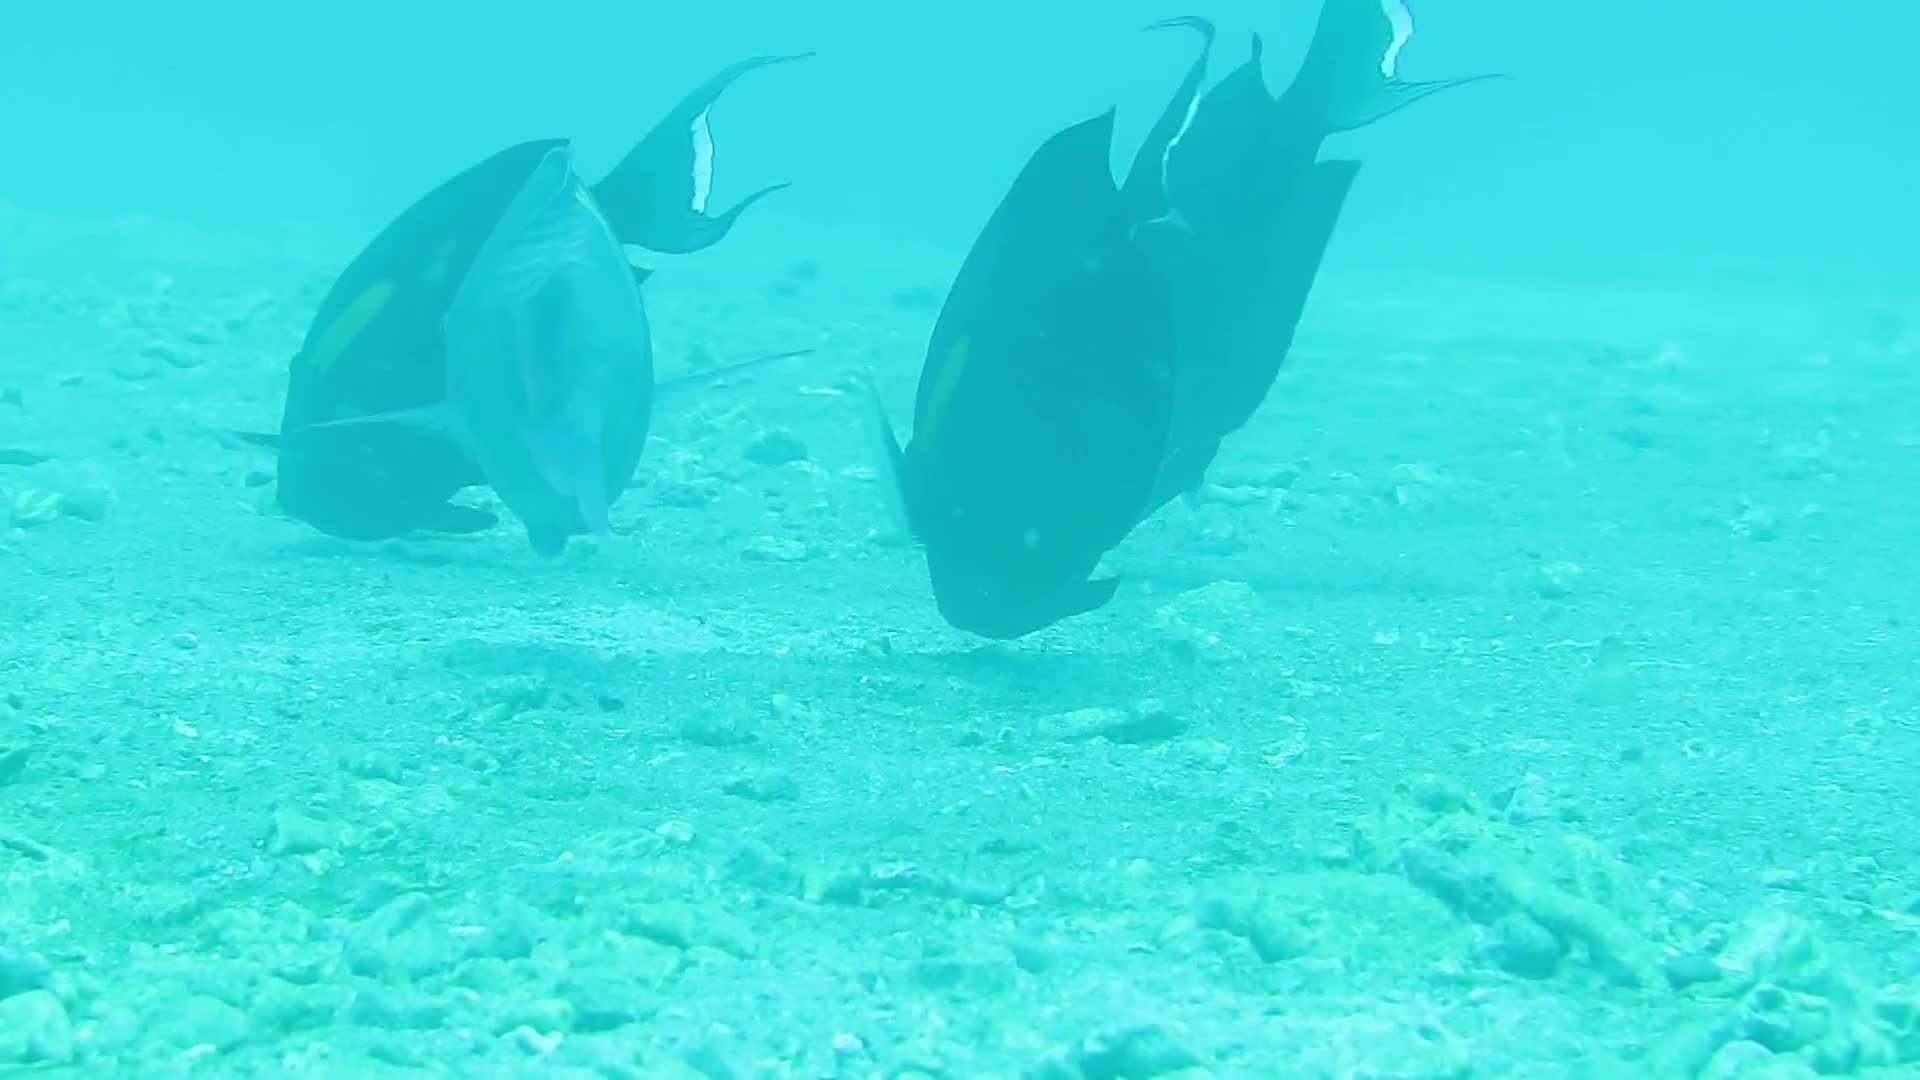Acanthurus olivaceus: (862, 141, 1266, 666), (447, 119, 700, 589), (286, 119, 539, 589)
